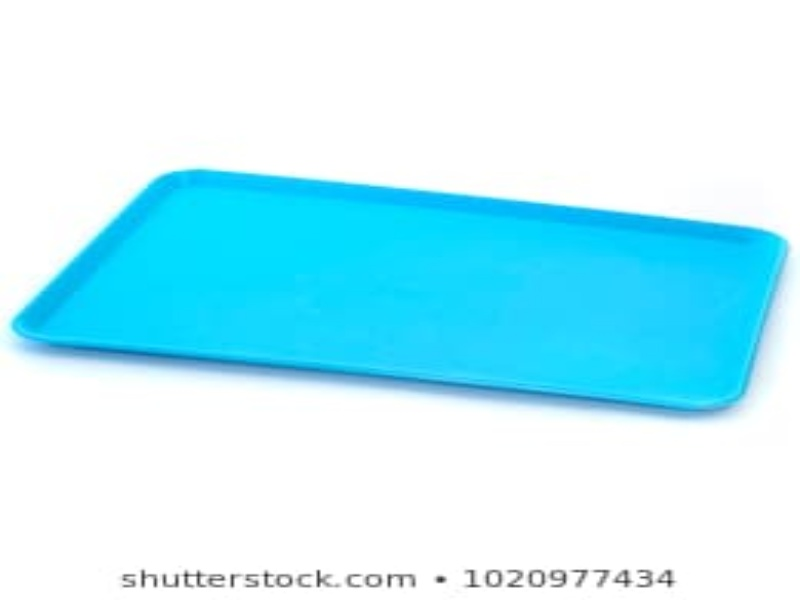plastic-tray: (6, 160, 791, 415)
